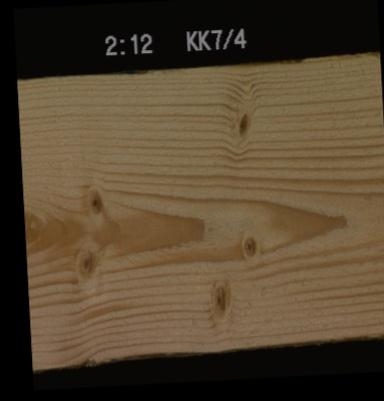sound_knot: (72, 246, 96, 280), (208, 276, 228, 314), (84, 183, 102, 211), (238, 233, 257, 259), (233, 108, 249, 138)
